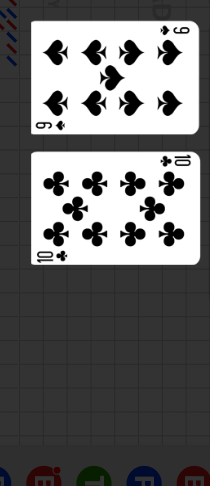10C: (35, 248, 70, 263)
9S: (34, 119, 67, 132)
